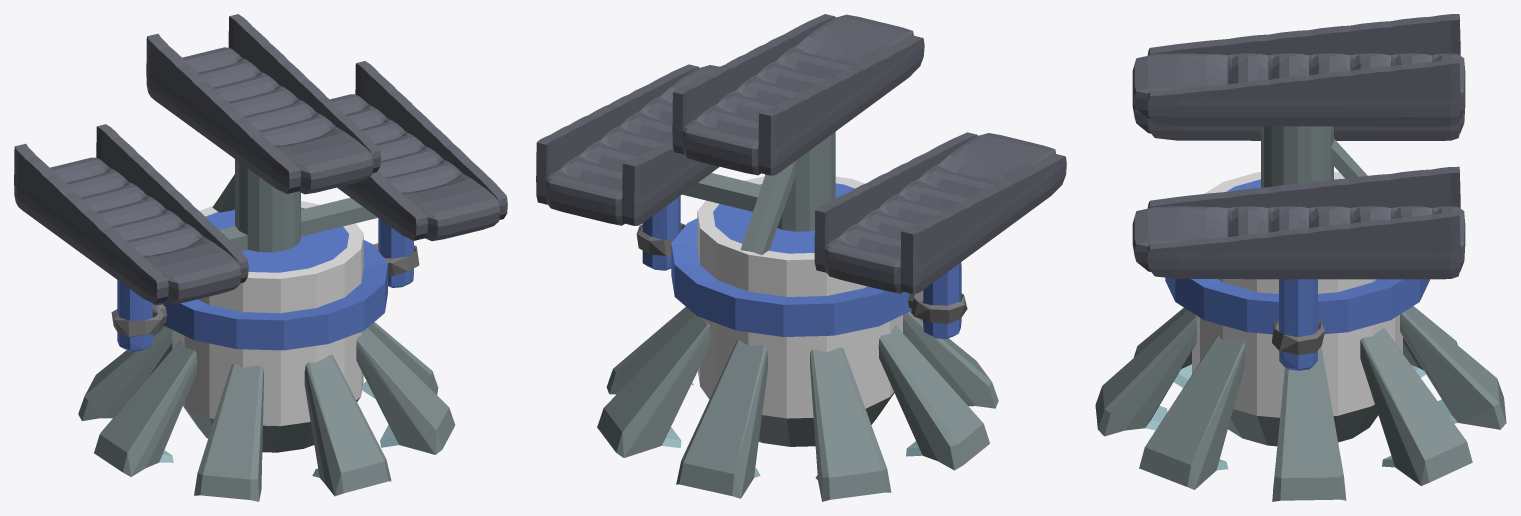
Rendered from rocketlauncher_level8.fbx.
The picture shows the model from 3 angles, left to right: view 1: azimuth 30°, elevation 25°; view 2: azimuth 150°, elevation 25°; view 3: azimuth 270°, elevation 25°; orthographic projection. The views are drawn at different scales.
Parts seen in each view (by area): view 1: reactor.001, powersupply.005, settlement_place.011, settlement_place.010, settlement_place.009, holder3.007, holder3.006, holder.006, holder.007; view 2: powersupply.005, reactor.001, settlement_place.011, settlement_place.010, settlement_place.009, holder3.007, holder3.006, holder.006, holder.007; view 3: powersupply.005, settlement_place.011, settlement_place.009, reactor.001, settlement_place.010, holder3.006, holder.007.
Boxes of the visible parts, left/top/right/bottom form: reactor.001: left=152, top=159, right=387, bottom=452; powersupply.005: left=78, top=322, right=455, bottom=501; settlement_place.011: left=146, top=14, right=380, bottom=194; settlement_place.010: left=14, top=124, right=248, bottom=304; settlement_place.009: left=330, top=61, right=507, bottom=241; holder3.007: left=117, top=280, right=152, bottom=351; holder3.006: left=378, top=218, right=413, bottom=287; holder.006: left=111, top=304, right=166, bottom=336; holder.007: left=373, top=243, right=419, bottom=275; powersupply.005: left=597, top=307, right=998, bottom=501; reactor.001: left=671, top=132, right=911, bottom=446; settlement_place.011: left=672, top=14, right=924, bottom=175; settlement_place.010: left=814, top=132, right=1066, bottom=293; settlement_place.009: left=536, top=64, right=719, bottom=225; holder3.007: left=923, top=262, right=961, bottom=339; holder3.006: left=642, top=196, right=680, bottom=270; holder.006: left=908, top=290, right=967, bottom=323; holder.007: left=636, top=223, right=685, bottom=255; powersupply.005: left=1095, top=306, right=1506, bottom=501; settlement_place.011: left=1132, top=14, right=1465, bottom=126; settlement_place.009: left=1132, top=166, right=1465, bottom=279; reactor.001: left=1165, top=126, right=1429, bottom=446; settlement_place.010: left=1132, top=93, right=1465, bottom=140; holder3.006: left=1279, top=279, right=1317, bottom=370; holder.007: left=1271, top=320, right=1324, bottom=354.
Size of the model in its own units: 83.58 by 78.62 by 76.87.
